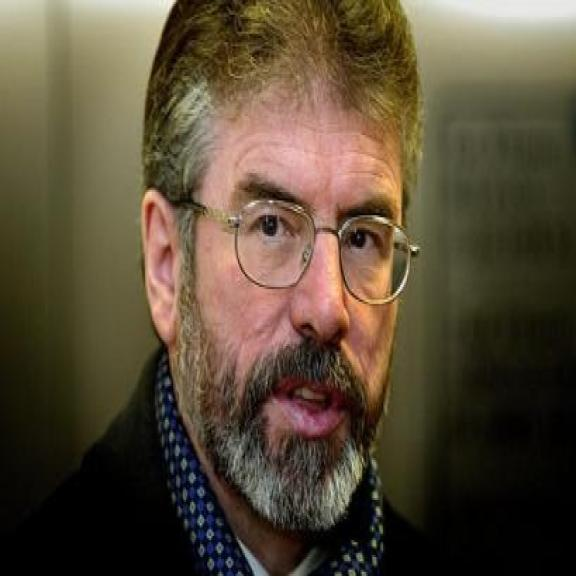face: (141, 69, 409, 503)
